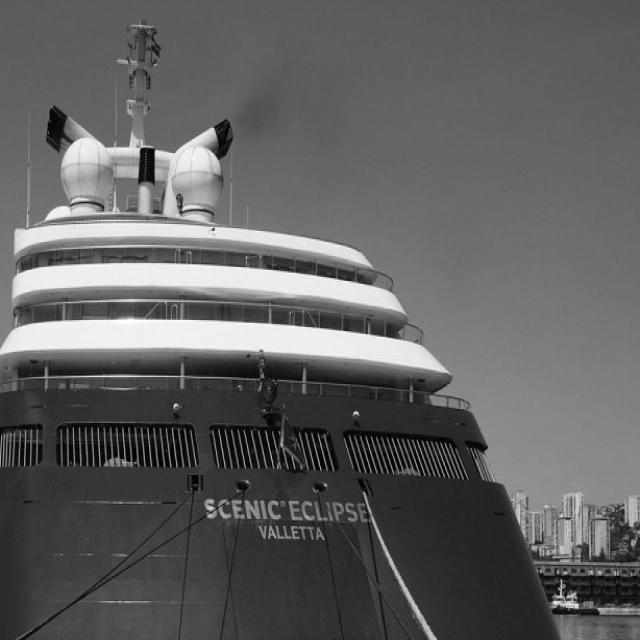cruises: (1, 9, 574, 640)
